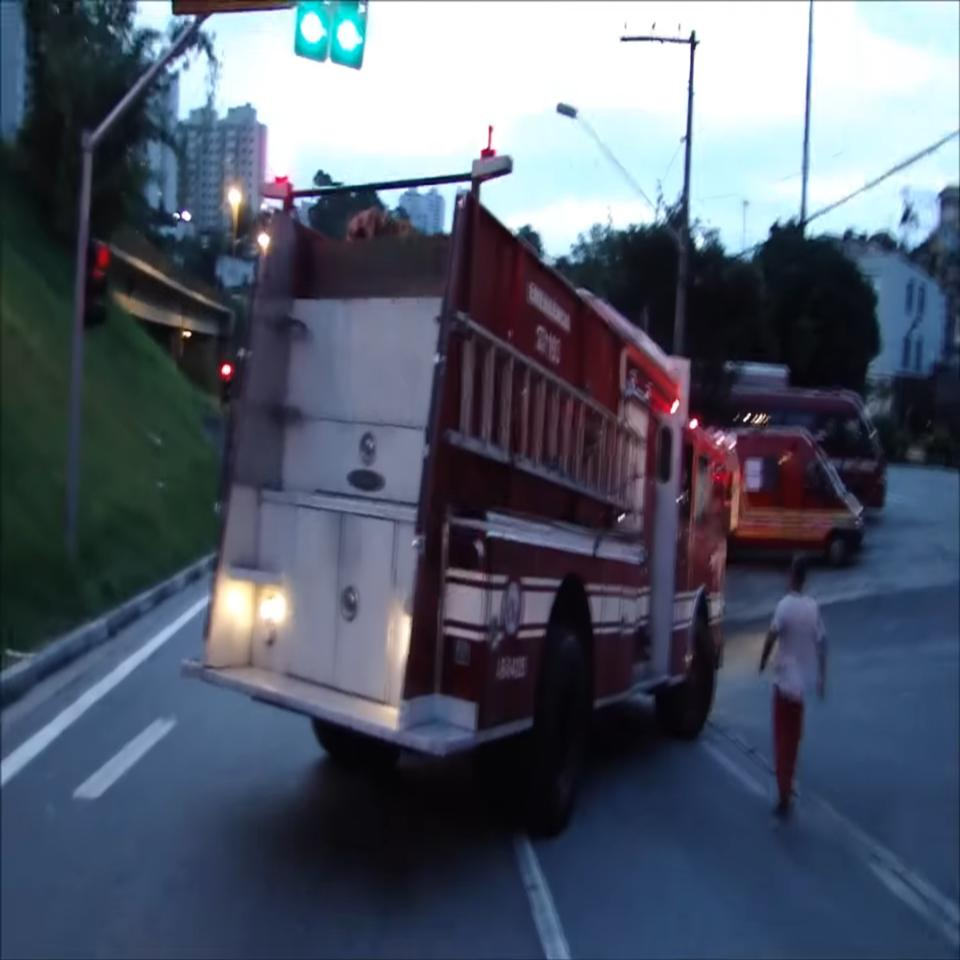viatura: (182, 122, 742, 839)
